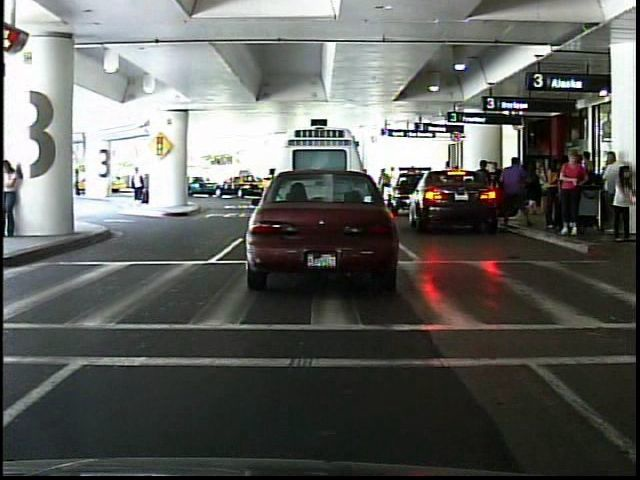person: (556, 147, 591, 242), (5, 156, 28, 240), (125, 161, 155, 209)
